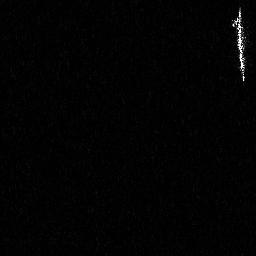ship: (230, 7, 247, 83)
